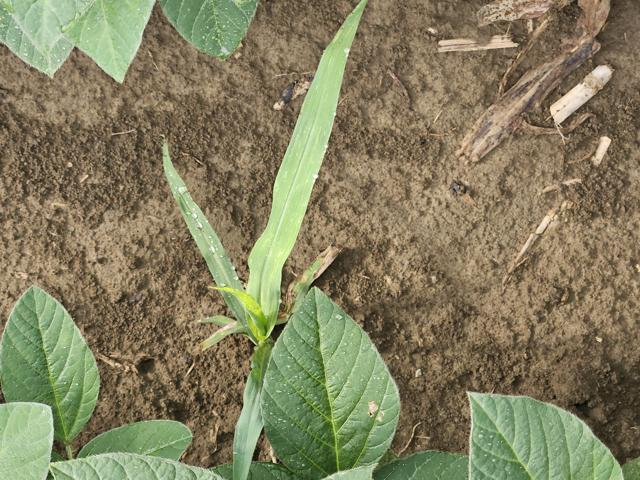bad weed: (167, 4, 352, 341)
